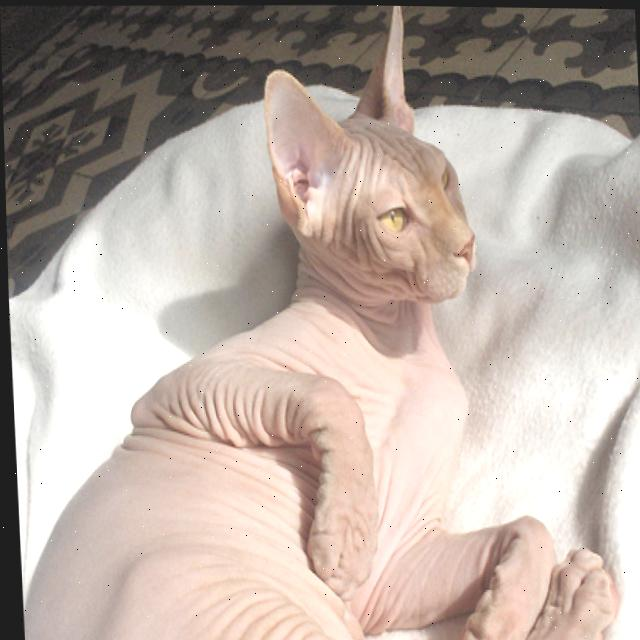Sphynx: (0, 0, 620, 640)
